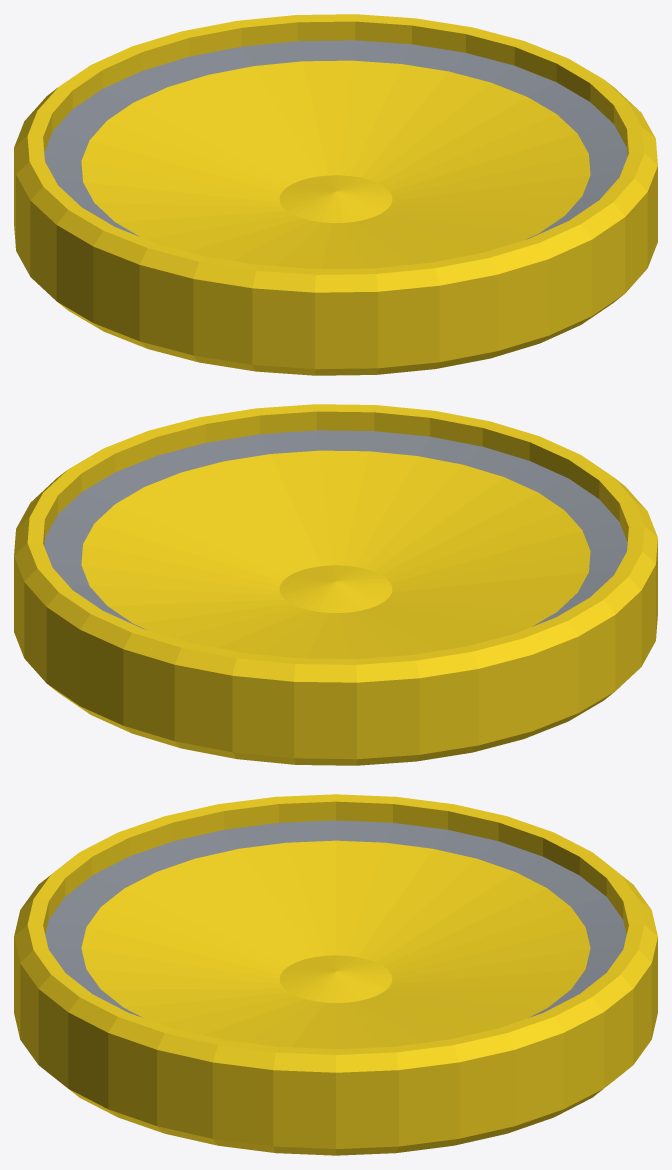
The model's file is pièce.fbx.
The picture shows the model from 3 angles, top to bottom: view 1: azimuth 30°, elevation 25°; view 2: azimuth 150°, elevation 25°; view 3: azimuth 270°, elevation 25°; orthographic projection.
Parts seen in each view (by area): view 1: Cylinder; view 2: Cylinder; view 3: Cylinder.
Part boxes in pixels (x1,y1,x2,y2): Cylinder: [14, 14, 657, 375]; Cylinder: [14, 404, 657, 765]; Cylinder: [14, 794, 657, 1155].
Size of the model in its own units: 200 by 34.59 by 200.
